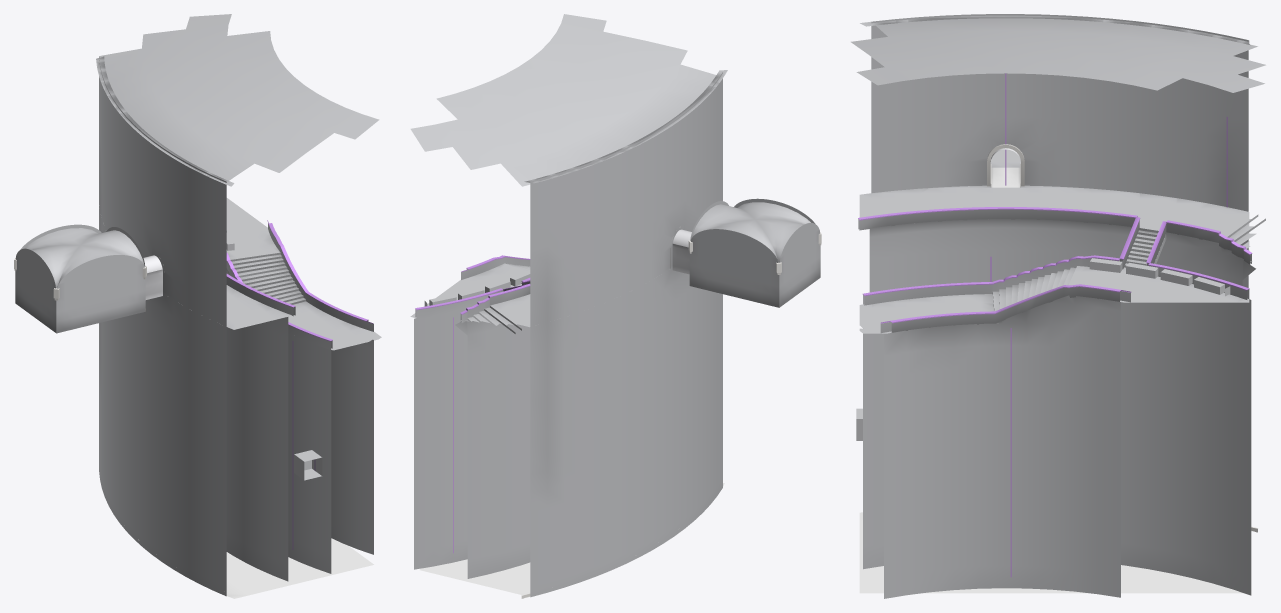
Rendered from crypt_10_ab.glb.
The picture shows the model from 3 angles, left to right: view 1: azimuth 30°, elevation 25°; view 2: azimuth 150°, elevation 25°; view 3: azimuth 270°, elevation 25°; orthographic projection. The views are drawn at different scales.
Parts seen in each view (by area): view 1: crypt_10_ab; view 2: crypt_10_ab; view 3: crypt_10_ab.
Part boxes in pixels (<box>): crypt_10_ab: <box>14,14,381,598</box>; crypt_10_ab: <box>410,14,821,598</box>; crypt_10_ab: <box>851,14,1265,598</box>.
Bounding box in the file's own units: 33.65 × 46.75 × 34.2.
